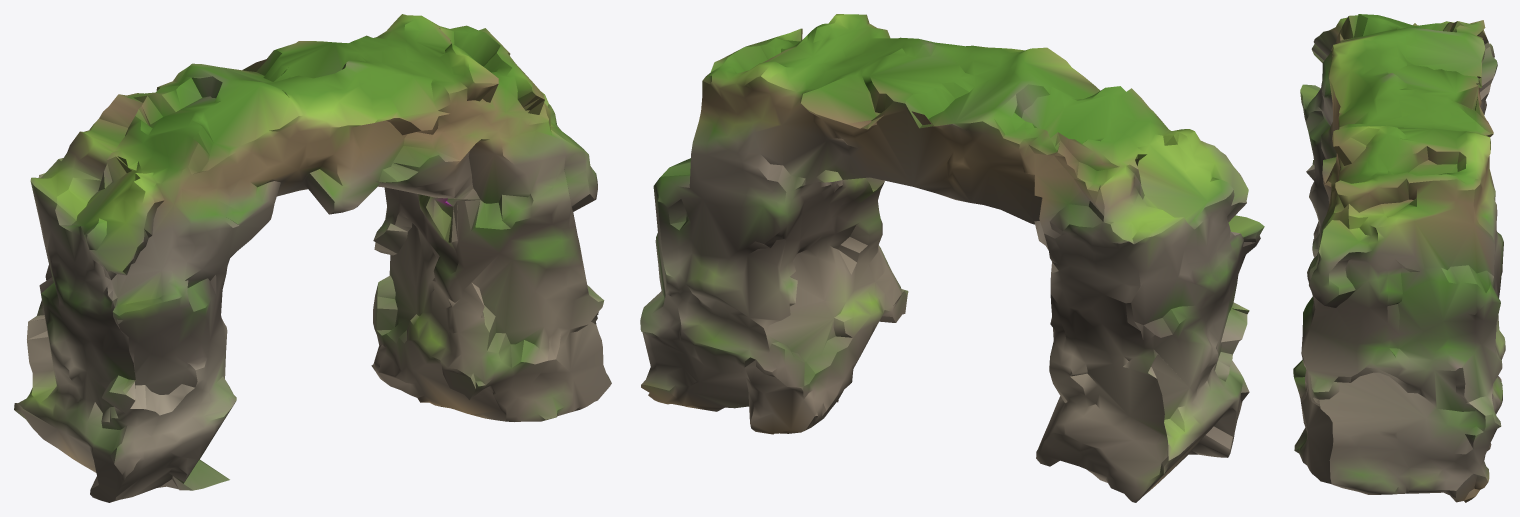
Rendered from glade_rock_arch.glb.
The picture shows the model from 3 angles, left to right: view 1: azimuth 30°, elevation 25°; view 2: azimuth 150°, elevation 25°; view 3: azimuth 270°, elevation 25°; orthographic projection. The views are drawn at different scales.
Parts seen in each view (by area): view 1: glade_rock_arch; view 2: glade_rock_arch; view 3: glade_rock_arch.
Part boxes in pixels (x1=…): glade_rock_arch: x1=14, y1=14, x2=611, y2=502; glade_rock_arch: x1=640, y1=14, x2=1264, y2=502; glade_rock_arch: x1=1293, y1=14, x2=1505, y2=502.
Size of the model in its own units: 15.6 by 10.78 by 6.2.
